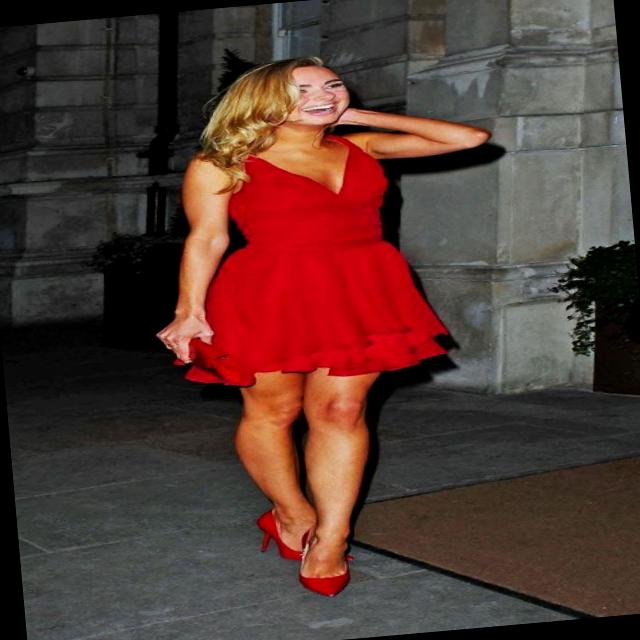dress: (154, 125, 456, 392)
